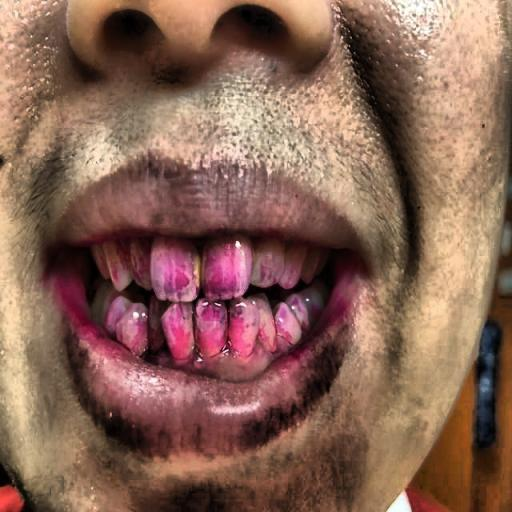Plaque: (83, 215, 338, 371)
